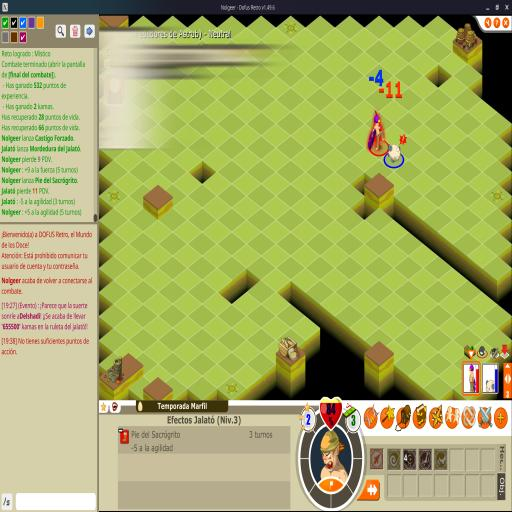Enemigos: (384, 144, 404, 168)
Personaje: (367, 110, 389, 156)
